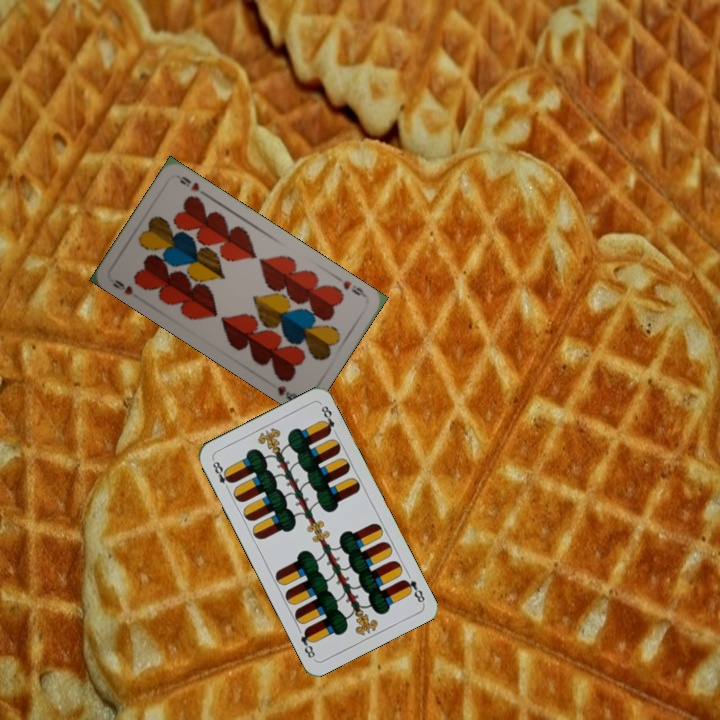E8: (208, 455, 235, 494), (399, 575, 427, 606)
H9: (339, 276, 370, 300), (109, 275, 136, 298)
